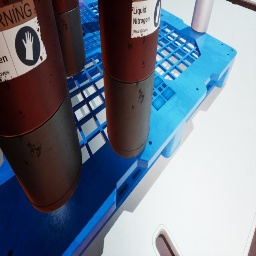0: (191, 0, 214, 34)
NitrogenTank ,: (0, 0, 82, 213), (98, 0, 162, 158), (51, 0, 86, 77)
